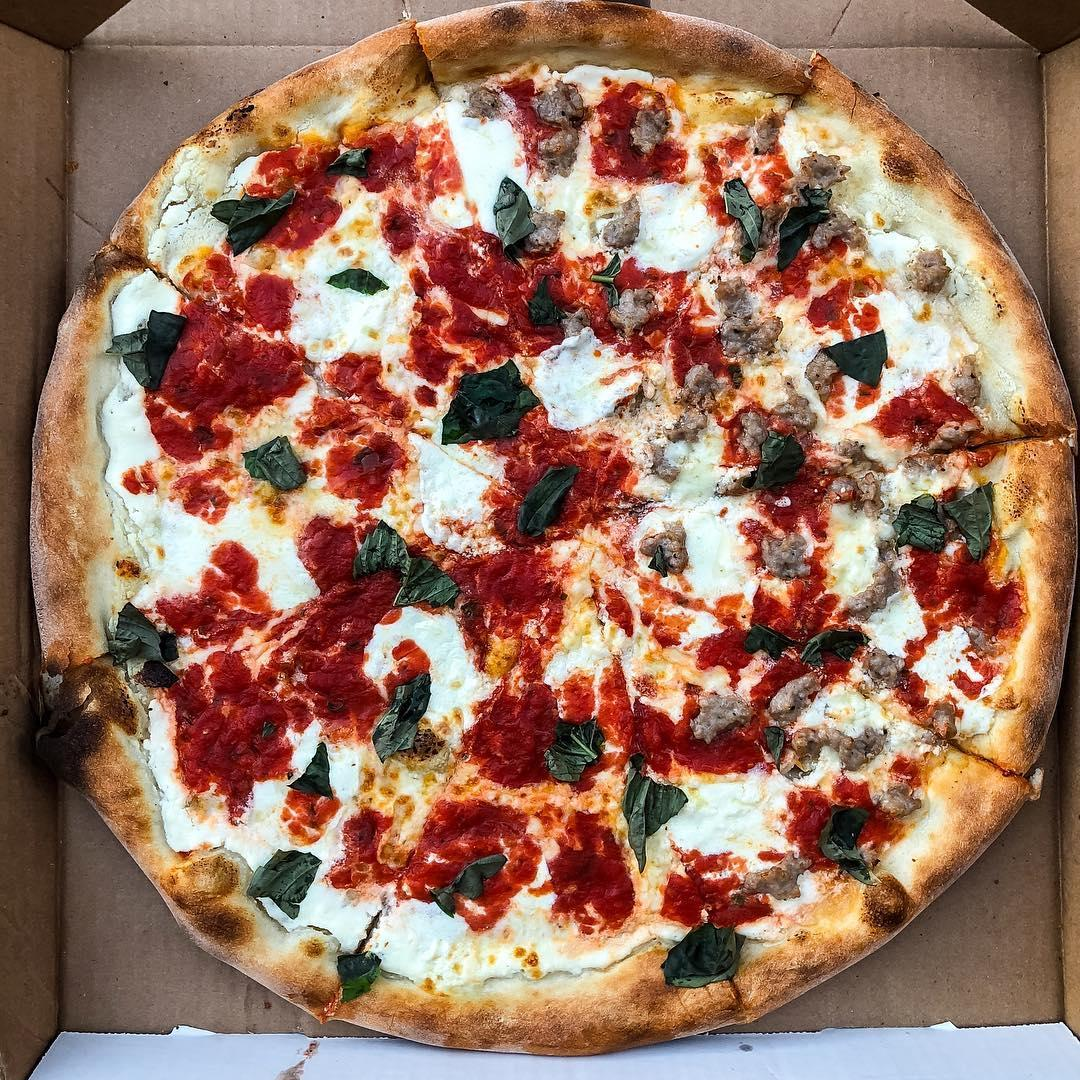Basil: (351, 515, 458, 601), (619, 754, 688, 874), (440, 367, 538, 441), (111, 311, 188, 397), (898, 488, 993, 553), (653, 922, 742, 988), (246, 844, 320, 921), (117, 602, 179, 690), (512, 467, 587, 537), (746, 619, 864, 663), (774, 188, 841, 264), (820, 323, 897, 389), (820, 804, 879, 886), (430, 854, 508, 915), (722, 173, 776, 260), (374, 670, 425, 757), (539, 717, 605, 780), (214, 192, 294, 237), (488, 174, 539, 243), (747, 431, 808, 483), (239, 439, 303, 487), (288, 742, 337, 802), (332, 949, 386, 1000), (329, 142, 371, 178), (332, 267, 384, 295)
Cheese: (140, 492, 306, 600), (664, 444, 747, 586), (165, 775, 282, 854), (301, 289, 418, 358), (544, 341, 638, 423), (379, 609, 484, 682), (698, 786, 791, 864), (880, 297, 957, 378), (639, 187, 721, 257), (454, 108, 523, 181)
Pizza: (32, 5, 1080, 1060)
